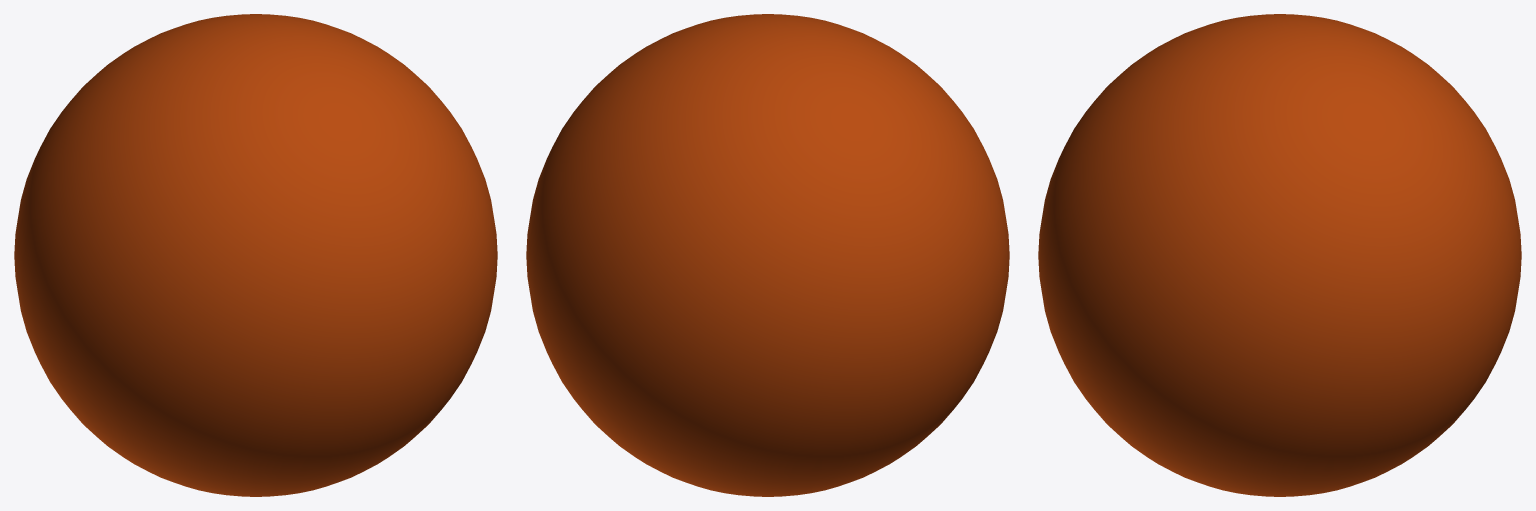
Rendered from bowling_ball.obj.
The picture shows the model from 3 angles, left to right: view 1: azimuth 30°, elevation 25°; view 2: azimuth 150°, elevation 25°; view 3: azimuth 270°, elevation 25°; orthographic projection.
Parts seen in each view (by area): view 1: Bowling_Ball; view 2: Bowling_Ball; view 3: Bowling_Ball.
Boxes of the visible parts, x1,y1,x2,y2 form: Bowling_Ball: (14,14,497,496); Bowling_Ball: (526,14,1009,496); Bowling_Ball: (1038,14,1521,496).
Bounding box in the file's own units: 0.216 × 0.216 × 0.216.
